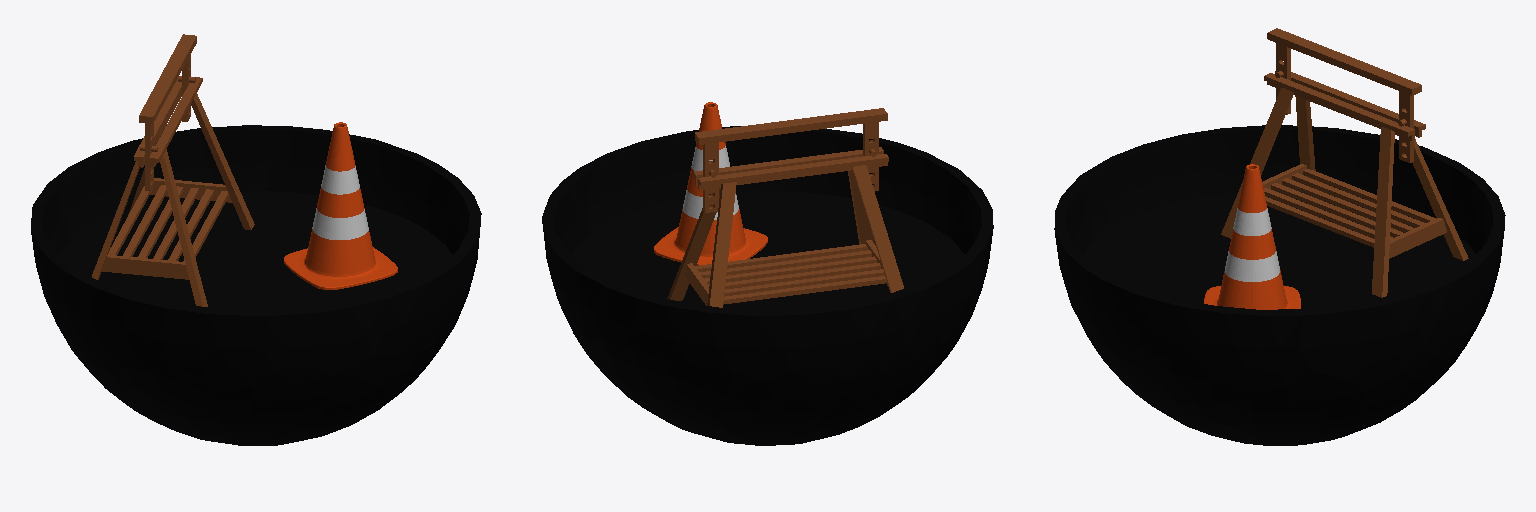
Rendered from sandboxIcon.obj.
3 renders of one model, left to right at view 1: azimuth 30°, elevation 25°; view 2: azimuth 150°, elevation 25°; view 3: azimuth 270°, elevation 25°, orthographic.
Parts seen in each view (by area): view 1: Sphere, Cube.005, Circle.000_Circle.003; view 2: Sphere, Cube.005, Circle.000_Circle.003; view 3: Sphere, Cube.005, Circle.000_Circle.003.
Part boxes in pixels (bbox=[...]): Sphere: bbox=[31, 125, 481, 445]; Cube.005: bbox=[92, 34, 254, 306]; Circle.000_Circle.003: bbox=[284, 122, 397, 289]; Sphere: bbox=[542, 126, 993, 445]; Cube.005: bbox=[667, 108, 903, 307]; Circle.000_Circle.003: bbox=[654, 102, 767, 265]; Sphere: bbox=[1054, 125, 1505, 445]; Cube.005: bbox=[1221, 28, 1468, 297]; Circle.000_Circle.003: bbox=[1204, 164, 1300, 309].
Size of the model in its own units: 1.84 by 1.53 by 1.84.